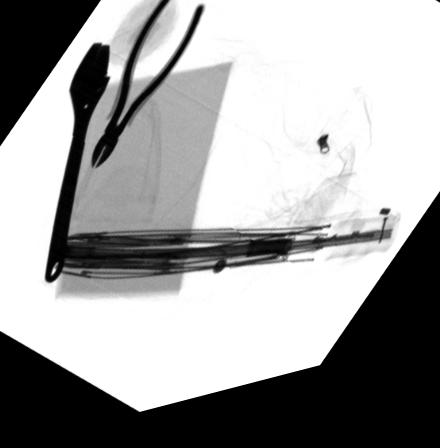Pliers: (88, 1, 208, 171)
Wrench: (43, 46, 112, 286)
